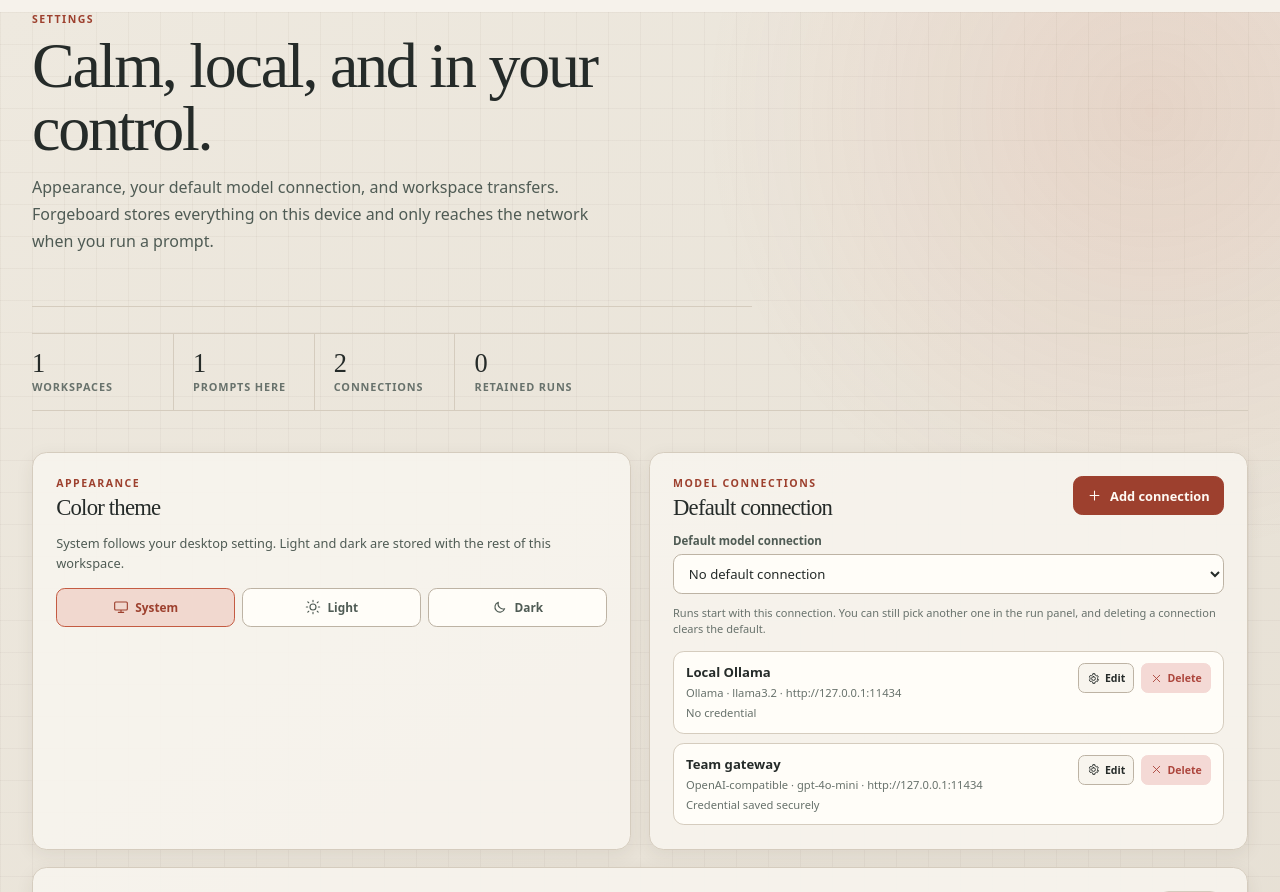
Scenario: settings preferences › persists the theme and the default connection through the bridge
Click the button with aria-label "Theme: Dark" at (518, 607), box [428, 588, 607, 627]
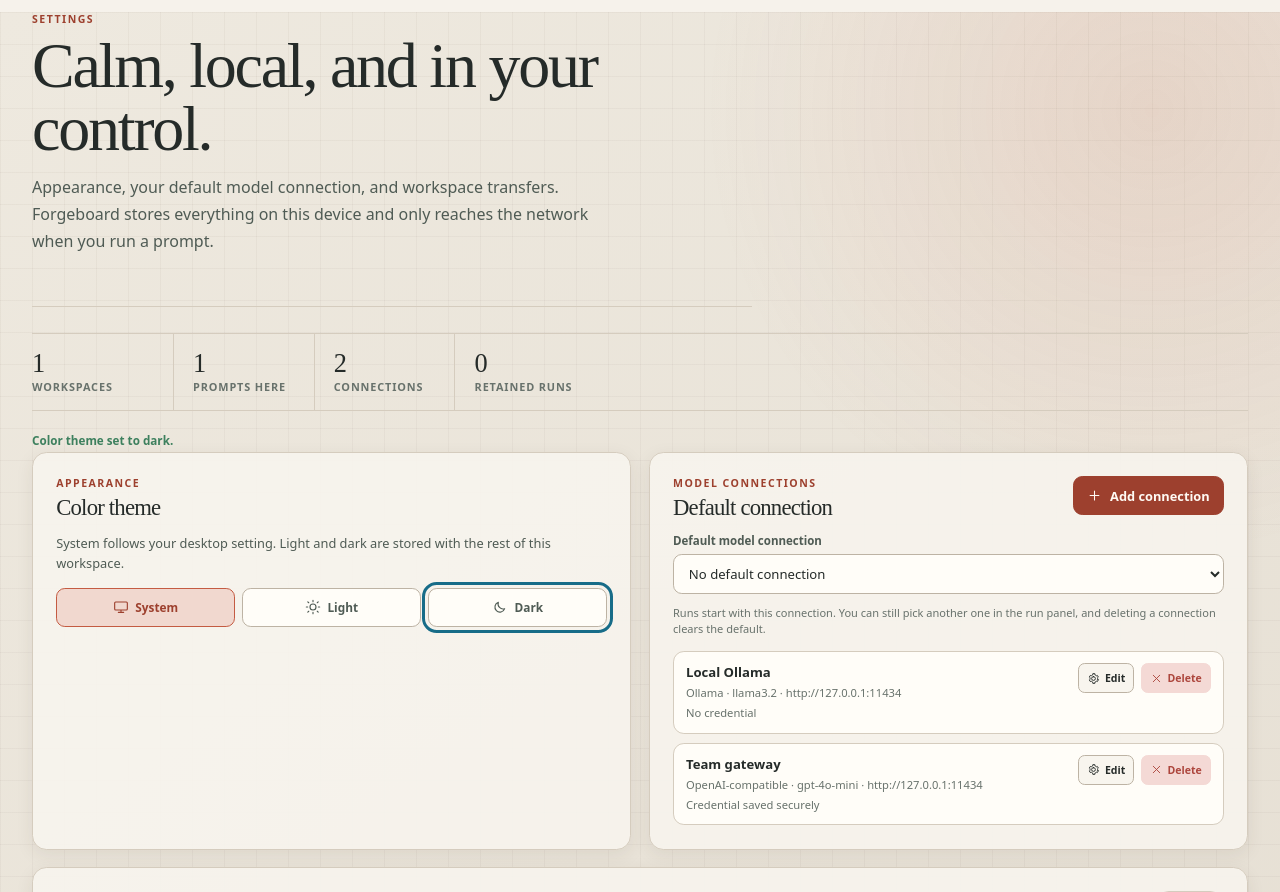
Result: the text "Color theme set to dark." is shown at [32, 433, 173, 448]
Select "Team gateway · OpenAI-compatible · gpt-4o-mini" in the dropdown labelled "Default model connection" at (948, 574), box [673, 554, 1224, 594]
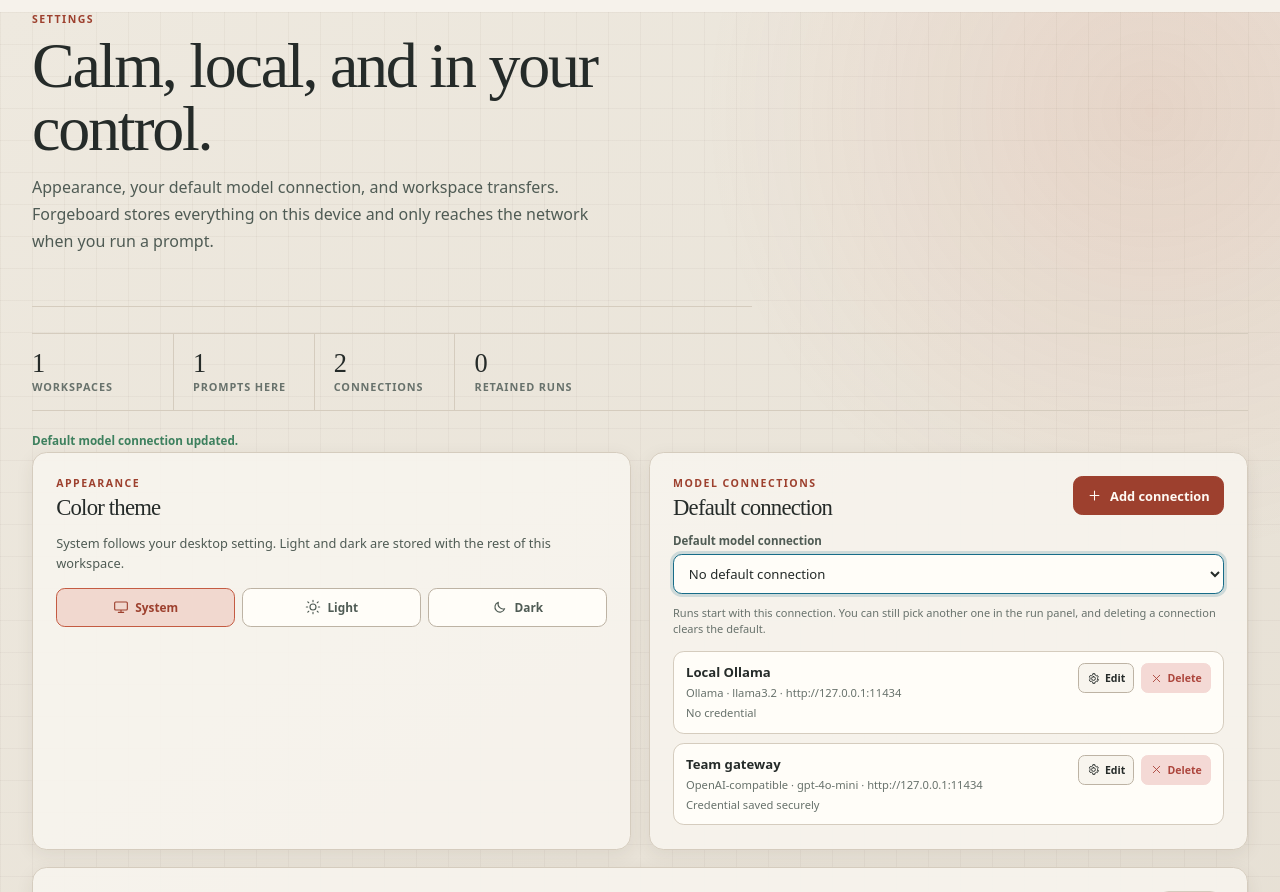
Result: the text "Default model connection updated." is shown at [32, 433, 238, 448]
